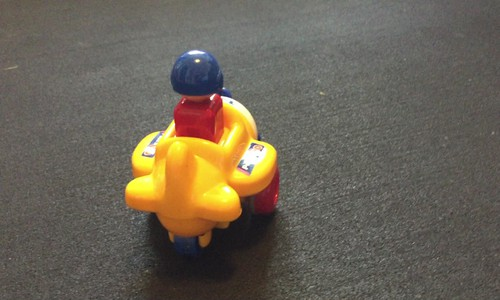toy: (123, 49, 287, 266)
